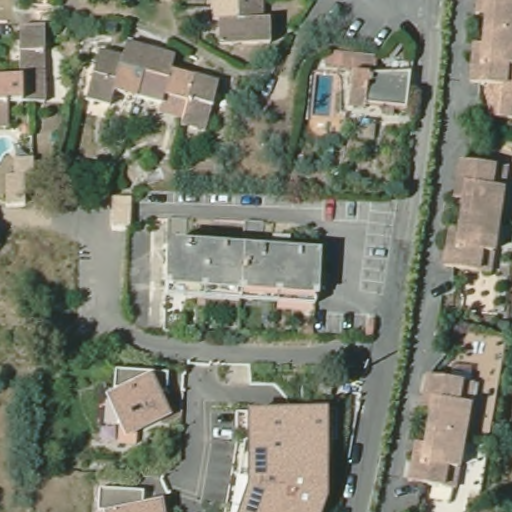pool: (312, 73, 335, 117), (1, 132, 14, 163)
